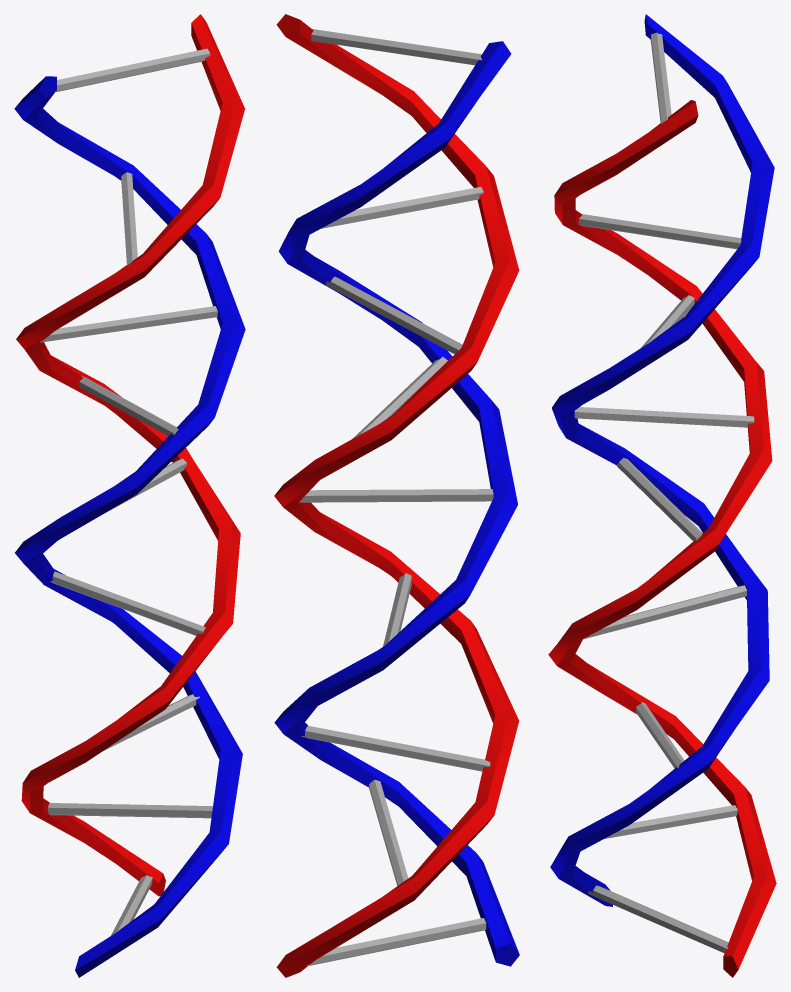
The model's file is DNA_menu.fbx.
The picture shows the model from 3 angles, left to right: view 1: azimuth 30°, elevation 25°; view 2: azimuth 150°, elevation 25°; view 3: azimuth 270°, elevation 25°; orthographic projection. The views are drawn at different scales.
Parts seen in each view (by area): view 1: pHelix1, pHelix2, pCylinder7, pCylinder4, pCylinder9, pCylinder6, pCylinder1, pCylinder5, pCylinder3, pCylinder8, pCylinder2; view 2: pHelix2, pHelix1, pCylinder2, pCylinder3, pCylinder8, pCylinder6, pCylinder4, pCylinder5, pCylinder7, pCylinder1, pCylinder9; view 3: pHelix1, pHelix2, pCylinder1, pCylinder5, pCylinder9, pCylinder8, pCylinder2, pCylinder7, pCylinder6, pCylinder3, pCylinder4.
Boxes of the visible parts, bbox=[...] form: pHelix1: bbox=[14, 76, 245, 977]; pHelix2: bbox=[16, 14, 244, 896]; pCylinder7: bbox=[47, 803, 212, 818]; pCylinder4: bbox=[40, 306, 217, 342]; pCylinder9: bbox=[50, 571, 205, 635]; pCylinder6: bbox=[54, 48, 210, 92]; pCylinder1: bbox=[79, 376, 178, 435]; pCylinder5: bbox=[121, 172, 137, 265]; pCylinder3: bbox=[103, 694, 200, 750]; pCylinder8: bbox=[111, 875, 152, 935]; pCylinder2: bbox=[108, 458, 186, 511]; pHelix2: bbox=[274, 14, 519, 977]; pHelix1: bbox=[274, 41, 519, 966]; pCylinder2: bbox=[299, 489, 493, 502]; pCylinder3: bbox=[301, 725, 490, 771]; pCylinder8: bbox=[306, 918, 486, 965]; pCylinder6: bbox=[311, 29, 481, 65]; pCylinder4: bbox=[326, 276, 462, 354]; pCylinder5: bbox=[321, 187, 483, 228]; pCylinder7: bbox=[368, 779, 408, 885]; pCylinder1: bbox=[352, 356, 447, 438]; pCylinder9: bbox=[383, 573, 411, 646]; pHelix1: bbox=[550, 14, 774, 906]; pHelix2: bbox=[548, 100, 776, 977]; pCylinder1: bbox=[574, 407, 754, 427]; pCylinder5: bbox=[578, 214, 741, 249]; pCylinder9: bbox=[583, 585, 746, 639]; pCylinder8: bbox=[588, 885, 728, 953]; pCylinder2: bbox=[617, 458, 702, 540]; pCylinder7: bbox=[604, 805, 737, 838]; pCylinder6: bbox=[650, 32, 671, 123]; pCylinder3: bbox=[636, 702, 684, 768]; pCylinder4: bbox=[640, 295, 694, 348].
Bounding box in the file's own units: 0.0423 × 0.1824 × 0.0426.
